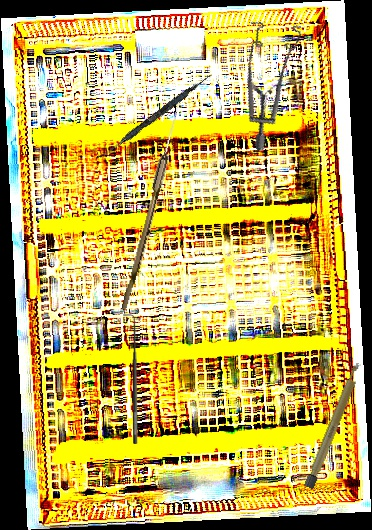Hook Surgical: (123, 312, 139, 444)
Scalpel Handle: (303, 361, 365, 490)
Spatula Surgical: (95, 69, 214, 165)
Speculum: (216, 6, 336, 153)
Surgical Spoon: (121, 100, 183, 312)
